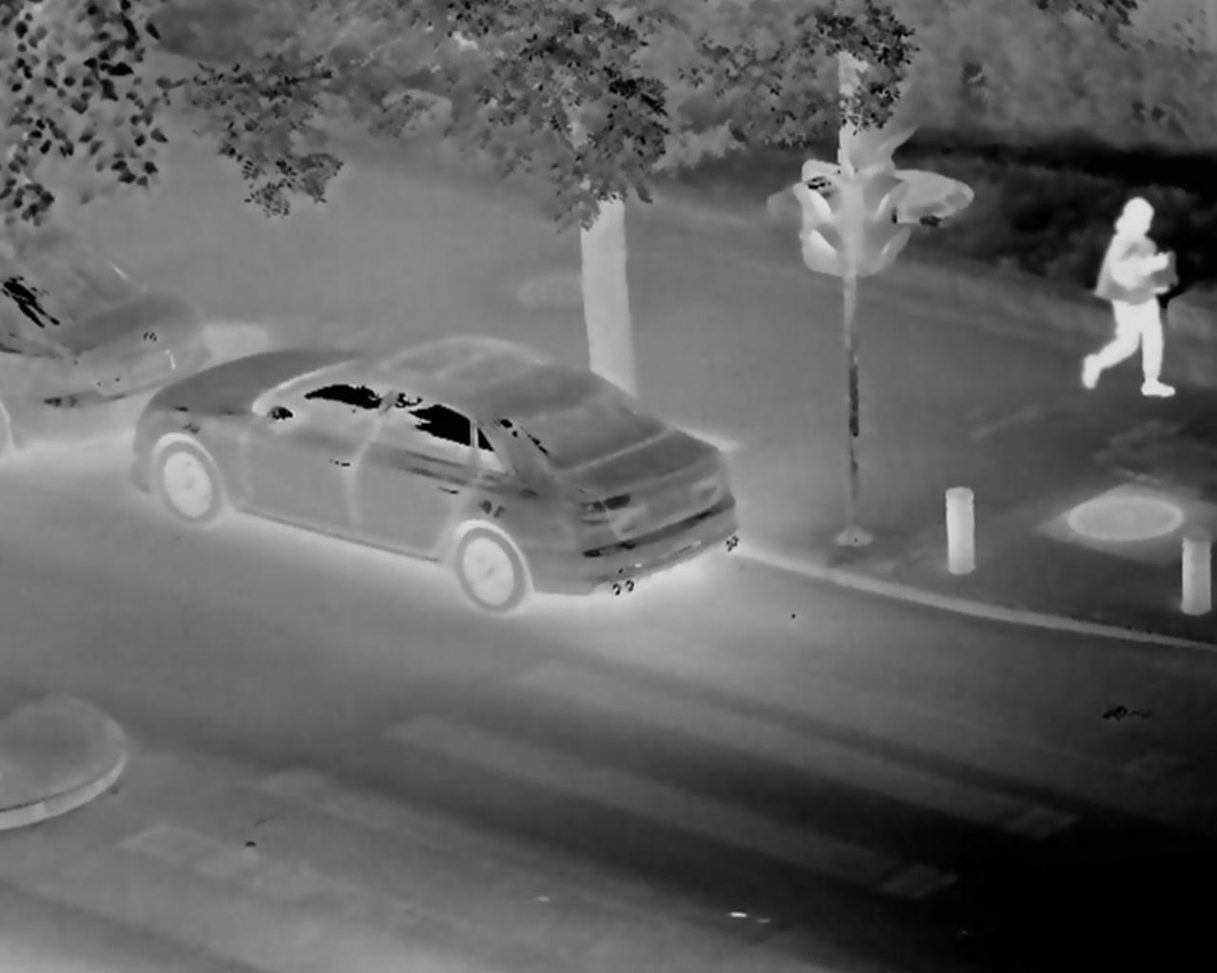person: (1072, 198, 1187, 404)
